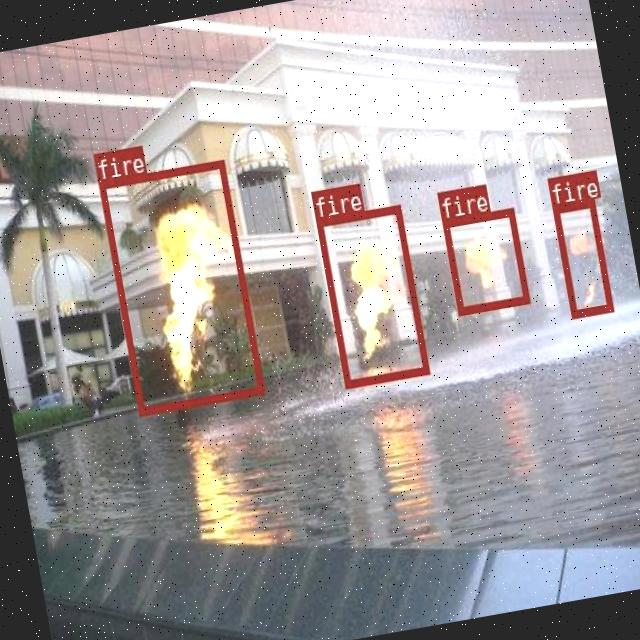fire: (98, 158, 264, 413), (314, 204, 428, 388), (440, 205, 529, 314), (550, 196, 612, 318)
